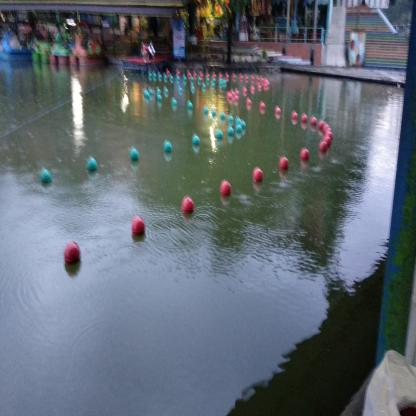green_buoy: (40, 168, 52, 183), (86, 158, 98, 172), (129, 147, 140, 162), (164, 140, 173, 153), (192, 134, 201, 146), (216, 127, 224, 139), (235, 124, 242, 134), (228, 125, 234, 136)
red_buoy: (64, 238, 81, 265), (132, 215, 146, 236), (182, 194, 194, 214), (220, 178, 232, 197), (278, 154, 290, 171), (252, 166, 264, 183), (300, 146, 310, 160), (319, 140, 328, 153), (300, 112, 309, 124), (324, 136, 332, 148), (274, 104, 282, 115), (310, 115, 318, 126), (291, 110, 299, 120), (318, 120, 326, 130), (323, 124, 331, 134), (245, 96, 252, 106), (259, 100, 266, 110), (326, 131, 333, 141), (325, 127, 332, 136), (230, 90, 236, 97), (227, 94, 233, 101), (227, 91, 232, 99), (242, 87, 248, 93), (234, 95, 239, 102), (250, 86, 255, 92), (264, 83, 268, 90), (236, 89, 240, 96), (260, 77, 264, 83), (258, 85, 262, 91), (226, 74, 230, 79), (240, 75, 244, 80), (245, 75, 249, 80), (266, 82, 270, 87), (264, 78, 267, 84), (251, 76, 255, 80), (233, 74, 236, 79), (266, 80, 269, 85), (257, 77, 260, 81)
